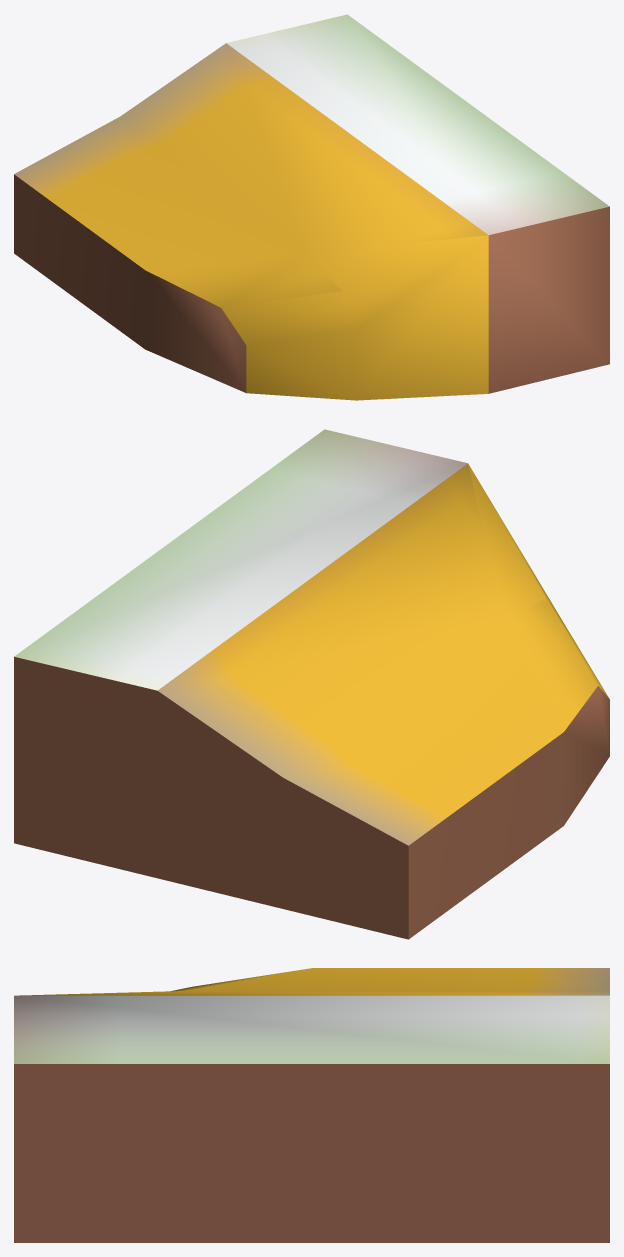
Rendered from Shore.SliceConvex.D.Vert.Snow.glb.
3 renders of one model, top to bottom at view 1: azimuth 30°, elevation 25°; view 2: azimuth 150°, elevation 25°; view 3: azimuth 270°, elevation 25°, orthographic. The views are drawn at different scales.
Visible parts, largest first — view 1: Shore.SliceConvex.D.Vert.Snow; view 2: Shore.SliceConvex.D.Vert.Snow; view 3: Shore.SliceConvex.D.Vert.Snow.
Boxes of the visible parts, x1,y1,x2,y2 form: Shore.SliceConvex.D.Vert.Snow: (14,14,609,400); Shore.SliceConvex.D.Vert.Snow: (14,429,609,939); Shore.SliceConvex.D.Vert.Snow: (14,968,609,1242).
Bounding box in the file's own units: 2.2 × 1 × 3.
1 material, 1 textured.
